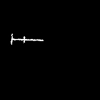double_crochet: (11, 34, 42, 43)
